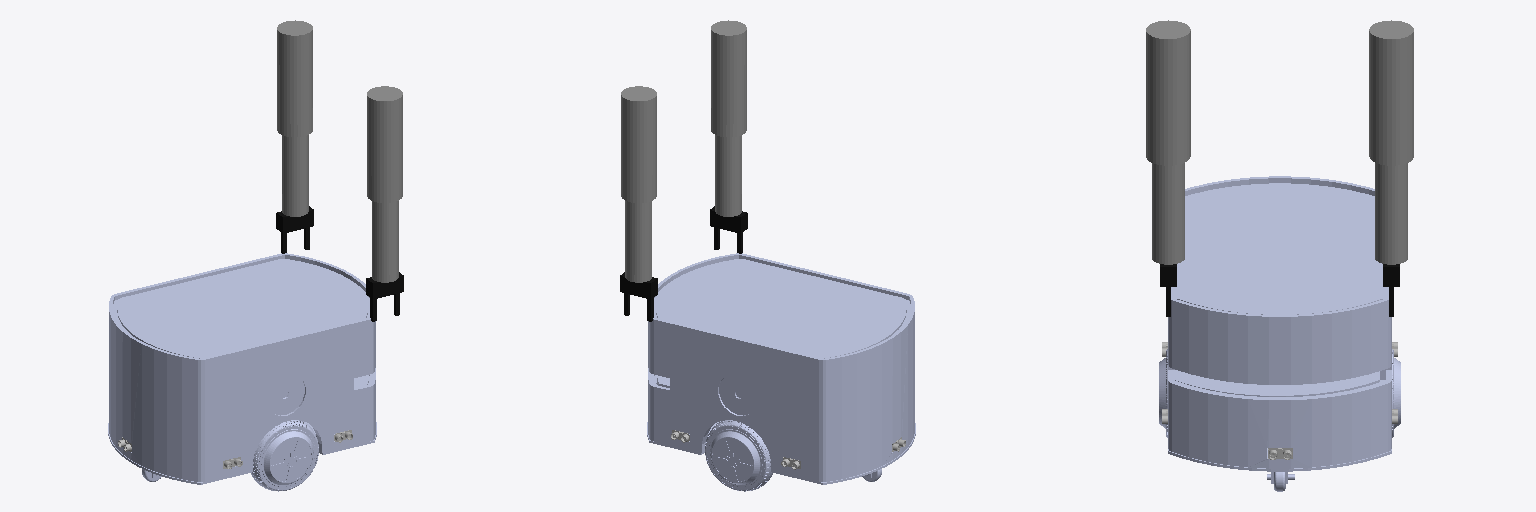
robot.urdf — rospital:
<?xml version="1.0" ?>
<!-- =================================================================================== -->
<!-- |    This document was autogenerated by xacro from rospital_moveit.urdf.xacro     | -->
<!-- |    EDITING THIS FILE BY HAND IS NOT RECOMMENDED                                 | -->
<!-- =================================================================================== -->
<robot name="rospital">
  <link name="base_footprint"/>
  <link name="base_link">
    <inertial>
      <origin rpy="0 0 0" xyz="0.00298593644358607 -0.000268295172875241 0.154640959753498"/>
      <mass value="12.0012331336924"/>
      <inertia ixx="0.35866059453322" ixy="4.67770377513155E-08" ixz="0.000423861580413772" iyy="0.233823654906046" iyz="4.66362844507336E-09" izz="0.375131573810826"/>
    </inertial>
    <visual>
      <origin rpy="0 0 0" xyz="0 0 0"/>
      <geometry>
        <mesh filename="package://rospital_description/meshes/base_link.STL"/>
      </geometry>
      <material name="">
        <color rgba="0.792156862745098 0.819607843137255 0.933333333333333 1"/>
      </material>
    </visual>
    <collision>
      <origin rpy="0 0 0" xyz="0 0 0"/>
      <geometry>
        <mesh filename="package://rospital_description/meshes/base_link.STL"/>
      </geometry>
    </collision>
  </link>
  <joint name="base_joint" type="fixed">
    <parent link="base_footprint"/>
    <child link="base_link"/>
    <origin rpy="0 0 0" xyz="0 0 0.0701"/>
  </joint>
  <link name="wheel_left_link">
    <inertial>
      <origin rpy="0 0 0" xyz="-8.64344718974191E-06 0.0228237946886783 7.57765177879927E-08"/>
      <mass value="0.778339693950675"/>
      <inertia ixx="0.00165430356623842" ixy="6.08982301451092E-09" ixz="3.56600628105672E-11" iyy="0.0030911762450513" iyz="-2.8372582055542E-11" izz="0.00165423410528579"/>
    </inertial>
    <visual>
      <origin rpy="0 0 0" xyz="0 0 0"/>
      <geometry>
        <mesh filename="package://rospital_description/meshes/wheel_left_link.STL"/>
      </geometry>
      <material name="">
        <color rgba="0.792156862745098 0.819607843137255 0.933333333333333 1"/>
      </material>
    </visual>
    <collision>
      <origin rpy="0 0 0" xyz="0 0 0"/>
      <geometry>
        <mesh filename="package://rospital_description/meshes/wheel_left_link.STL"/>
      </geometry>
    </collision>
  </link>
  <joint name="wheel_left_joint" type="continuous">
    <origin rpy="0 0 0" xyz="0 0.161 0.0154413114931434"/>
    <parent link="base_link"/>
    <child link="wheel_left_link"/>
    <axis xyz="0 1 0"/>
  </joint>
  <link name="wheel_right_link">
    <inertial>
      <origin rpy="0 0 0" xyz="8.64344718911542E-06 -0.0228237946886785 7.57765181002429E-08"/>
      <mass value="0.778339693950669"/>
      <inertia ixx="0.00165430356623842" ixy="6.08982301952646E-09" ixz="-3.56600611496615E-11" iyy="0.00309117624505131" iyz="2.83725665326271E-11" izz="0.0016542341052858"/>
    </inertial>
    <visual>
      <origin rpy="0 0 0" xyz="0 0 0"/>
      <geometry>
        <mesh filename="package://rospital_description/meshes/wheel_right_link.STL"/>
      </geometry>
      <material name="">
        <color rgba="0.792156862745098 0.819607843137255 0.933333333333333 1"/>
      </material>
    </visual>
    <collision>
      <origin rpy="0 0 0" xyz="0 0 0"/>
      <geometry>
        <mesh filename="package://rospital_description/meshes/wheel_right_link.STL"/>
      </geometry>
    </collision>
  </link>
  <joint name="wheel_right_joint" type="continuous">
    <origin rpy="0 0 0" xyz="0 -0.161 0.0154413114931451"/>
    <parent link="base_link"/>
    <child link="wheel_right_link"/>
    <axis xyz="0 1 0"/>
  </joint>
  <link name="caster_front_link">
    <inertial>
      <origin rpy="0 0 0" xyz="0.000805650652548229 5.72729797615468E-17 -4.48165838715792E-06"/>
      <mass value="0.0386238363179237"/>
      <inertia ixx="7.66294109641648E-06" ixy="-1.82721726780336E-20" ixz="2.42889623642253E-11" iyy="1.29044379500025E-05" iyz="-4.77133079419545E-24" izz="7.66293122817673E-06"/>
    </inertial>
    <visual>
      <origin rpy="0 0 0" xyz="0 0 0"/>
      <geometry>
        <mesh filename="package://rospital_description/meshes/caster_front_link.STL"/>
      </geometry>
      <material name="">
        <color rgba="0.792156862745098 0.819607843137255 0.933333333333333 1"/>
      </material>
    </visual>
    <collision>
      <origin rpy="0 0 0" xyz="0 0 0"/>
      <geometry>
        <mesh filename="package://rospital_description/meshes/caster_front_link.STL"/>
      </geometry>
    </collision>
  </link>
  <joint name="caster_front_joint" type="fixed">
    <origin rpy="0 0 0" xyz="0.229250238887004 -0.000124017376899337 -0.0431115511971616"/>
    <parent link="base_link"/>
    <child link="caster_front_link"/>
    <axis xyz="0 0 0"/>
  </joint>
  <link name="caster_rear_link">
    <inertial>
      <origin rpy="0 0 0" xyz="-0.000805650652548229 -6.01461155186334E-17 -4.48165838716486E-06"/>
      <mass value="0.0386238363179237"/>
      <inertia ixx="7.66294109641648E-06" ixy="-3.86943114962554E-20" ixz="-2.42889623642257E-11" iyy="1.29044379500025E-05" iyz="-7.32910421549178E-20" izz="7.66293122817673E-06"/>
    </inertial>
    <visual>
      <origin rpy="0 0 0" xyz="0 0 0"/>
      <geometry>
        <mesh filename="package://rospital_description/meshes/caster_rear_link.STL"/>
      </geometry>
      <material name="">
        <color rgba="0.792156862745098 0.819607843137255 0.933333333333333 1"/>
      </material>
    </visual>
    <collision>
      <origin rpy="0 0 0" xyz="0 0 0"/>
      <geometry>
        <mesh filename="package://rospital_description/meshes/caster_rear_link.STL"/>
      </geometry>
    </collision>
  </link>
  <joint name="caster_rear_joint" type="fixed">
    <origin rpy="0 0 0" xyz="-0.229157886818826 -0.000123712642857387 -0.0431115511971648"/>
    <parent link="base_link"/>
    <child link="caster_rear_link"/>
    <axis xyz="0 0 0"/>
  </joint>
  <material name="arm_grey">
    <color rgba="0.6 0.6 0.6 1"/>
  </material>
  <material name="gripper_black">
    <color rgba="0.1 0.1 0.1 1"/>
  </material>
  <joint name="left_shoulder_joint" type="revolute">
    <origin rpy="0 3.14 0" xyz="0.25 0.2 0.85"/>
    <parent link="base_link"/>
    <child link="left_upper_arm_link"/>
    <axis xyz="0 1 0"/>
    <limit effort="100" lower="-3.14" upper="0.0" velocity="1.0"/>
  </joint>
  <link name="left_upper_arm_link">
    <visual>
      <origin rpy="0 0 0" xyz="0 0 0.125"/>
      <geometry>
        <cylinder length="0.25" radius="0.04"/>
      </geometry>
      <material name="arm_grey"/>
    </visual>
    <collision>
      <origin rpy="0 0 0" xyz="0 0 0.125"/>
      <geometry>
        <cylinder length="0.25" radius="0.04"/>
      </geometry>
    </collision>
    <inertial>
      <mass value="1.0"/>
      <inertia ixx="0.01" ixy="0" ixz="0" iyy="0.01" iyz="0" izz="0.01"/>
    </inertial>
  </link>
  <joint name="left_elbow_joint" type="revolute">
    <origin rpy="0 0 0" xyz="0 0 0.25"/>
    <parent link="left_upper_arm_link"/>
    <child link="left_forearm_link"/>
    <axis xyz="1 0 0"/>
    <limit effort="100" lower="0.0" upper="1.57" velocity="1.0"/>
  </joint>
  <link name="left_forearm_link">
    <visual>
      <origin rpy="0 0 0" xyz="0 0 0.1"/>
      <geometry>
        <cylinder length="0.2" radius="0.03"/>
      </geometry>
      <material name="arm_grey"/>
    </visual>
    <collision>
      <origin rpy="0 0 0" xyz="0 0 0.1"/>
      <geometry>
        <cylinder length="0.2" radius="0.03"/>
      </geometry>
    </collision>
    <inertial>
      <mass value="0.8"/>
      <inertia ixx="0.01" ixy="0" ixz="0" iyy="0.01" iyz="0" izz="0.01"/>
    </inertial>
  </link>
  <joint name="left_wrist_joint" type="revolute">
    <origin rpy="0 0 0" xyz="0 0 0.2"/>
    <parent link="left_forearm_link"/>
    <child link="left_gripper_base_link"/>
    <axis xyz="0 0 1"/>
    <limit effort="50" lower="-1.57" upper="1.57" velocity="1.0"/>
  </joint>
  <link name="left_gripper_base_link">
    <visual>
      <origin rpy="0 0 0" xyz="0 0 0.02"/>
      <geometry>
        <box size="0.08 0.03 0.04"/>
      </geometry>
      <material name="gripper_black"/>
    </visual>
    <collision>
      <origin rpy="0 0 0" xyz="0 0 0.02"/>
      <geometry>
        <box size="0.08 0.03 0.04"/>
      </geometry>
    </collision>
    <inertial>
      <mass value="0.2"/>
      <inertia ixx="0.001" ixy="0" ixz="0" iyy="0.001" iyz="0" izz="0.001"/>
    </inertial>
  </link>
  <joint name="left_left_finger_joint" type="prismatic">
    <origin rpy="0 0 0" xyz="-0.03 0 0.04"/>
    <parent link="left_gripper_base_link"/>
    <child link="left_left_finger_link"/>
    <axis xyz="1 0 0"/>
    <limit effort="10" lower="0.0" upper="0.03" velocity="0.5"/>
  </joint>
  <link name="left_left_finger_link">
    <visual>
      <origin rpy="0 0 0" xyz="0 0 0.03"/>
      <geometry>
        <box size="0.01 0.01 0.06"/>
      </geometry>
      <material name="gripper_black"/>
    </visual>
    <collision>
      <origin rpy="0 0 0" xyz="0 0 0.03"/>
      <geometry>
        <box size="0.01 0.01 0.06"/>
      </geometry>
    </collision>
    <inertial>
      <mass value="0.05"/>
      <inertia ixx="0.0001" ixy="0" ixz="0" iyy="0.0001" iyz="0" izz="0.0001"/>
    </inertial>
  </link>
  <joint name="left_right_finger_joint" type="prismatic">
    <origin rpy="0 0 0" xyz="0.03 0 0.04"/>
    <parent link="left_gripper_base_link"/>
    <child link="left_right_finger_link"/>
    <axis xyz="-1 0 0"/>
    <limit effort="10" lower="0.0" upper="0.03" velocity="0.5"/>
  </joint>
  <link name="left_right_finger_link">
    <visual>
      <origin rpy="0 0 0" xyz="0 0 0.03"/>
      <geometry>
        <box size="0.01 0.01 0.06"/>
      </geometry>
      <material name="gripper_black"/>
    </visual>
    <collision>
      <origin rpy="0 0 0" xyz="0 0 0.03"/>
      <geometry>
        <box size="0.01 0.01 0.06"/>
      </geometry>
    </collision>
    <inertial>
      <mass value="0.05"/>
      <inertia ixx="0.0001" ixy="0" ixz="0" iyy="0.0001" iyz="0" izz="0.0001"/>
    </inertial>
  </link>
  <joint name="left_gripper_tcp_joint" type="fixed">
    <origin rpy="0 0 0" xyz="0 0 0.08"/>
    <parent link="left_gripper_base_link"/>
    <child link="left_gripper_tcp_link"/>
  </joint>
  <link name="left_gripper_tcp_link"/>
  <joint name="right_shoulder_joint" type="revolute">
    <origin rpy="0 3.14 0" xyz="0.25 -0.2 0.85"/>
    <parent link="base_link"/>
    <child link="right_upper_arm_link"/>
    <axis xyz="0 1 0"/>
    <limit effort="100" lower="-3.14" upper="0.0" velocity="1.0"/>
  </joint>
  <link name="right_upper_arm_link">
    <visual>
      <origin rpy="0 0 0" xyz="0 0 0.125"/>
      <geometry>
        <cylinder length="0.25" radius="0.04"/>
      </geometry>
      <material name="arm_grey"/>
    </visual>
    <collision>
      <origin rpy="0 0 0" xyz="0 0 0.125"/>
      <geometry>
        <cylinder length="0.25" radius="0.04"/>
      </geometry>
    </collision>
    <inertial>
      <mass value="1.0"/>
      <inertia ixx="0.01" ixy="0" ixz="0" iyy="0.01" iyz="0" izz="0.01"/>
    </inertial>
  </link>
  <joint name="right_elbow_joint" type="revolute">
    <origin rpy="0 0 0" xyz="0 0 0.25"/>
    <parent link="right_upper_arm_link"/>
    <child link="right_forearm_link"/>
    <axis xyz="1 0 0"/>
    <limit effort="100" lower="-1.57" upper="0" velocity="1.0"/>
  </joint>
  <link name="right_forearm_link">
    <visual>
      <origin rpy="0 0 0" xyz="0 0 0.1"/>
      <geometry>
        <cylinder length="0.2" radius="0.03"/>
      </geometry>
      <material name="arm_grey"/>
    </visual>
    <collision>
      <origin rpy="0 0 0" xyz="0 0 0.1"/>
      <geometry>
        <cylinder length="0.2" radius="0.03"/>
      </geometry>
    </collision>
    <inertial>
      <mass value="0.8"/>
      <inertia ixx="0.01" ixy="0" ixz="0" iyy="0.01" iyz="0" izz="0.01"/>
    </inertial>
  </link>
  <joint name="right_wrist_joint" type="revolute">
    <origin rpy="0 0 0" xyz="0 0 0.2"/>
    <parent link="right_forearm_link"/>
    <child link="right_gripper_base_link"/>
    <axis xyz="0 0 1"/>
    <limit effort="50" lower="-1.57" upper="1.57" velocity="1.0"/>
  </joint>
  <link name="right_gripper_base_link">
    <visual>
      <origin rpy="0 0 0" xyz="0 0 0.02"/>
      <geometry>
        <box size="0.08 0.03 0.04"/>
      </geometry>
      <material name="gripper_black"/>
    </visual>
    <collision>
      <origin rpy="0 0 0" xyz="0 0 0.02"/>
      <geometry>
        <box size="0.08 0.03 0.04"/>
      </geometry>
    </collision>
    <inertial>
      <mass value="0.2"/>
      <inertia ixx="0.001" ixy="0" ixz="0" iyy="0.001" iyz="0" izz="0.001"/>
    </inertial>
  </link>
  <joint name="right_left_finger_joint" type="prismatic">
    <origin rpy="0 0 0" xyz="-0.03 0 0.04"/>
    <parent link="right_gripper_base_link"/>
    <child link="right_left_finger_link"/>
    <axis xyz="1 0 0"/>
    <limit effort="10" lower="0.0" upper="0.03" velocity="0.5"/>
  </joint>
  <link name="right_left_finger_link">
    <visual>
      <origin rpy="0 0 0" xyz="0 0 0.03"/>
      <geometry>
        <box size="0.01 0.01 0.06"/>
      </geometry>
      <material name="gripper_black"/>
    </visual>
    <collision>
      <origin rpy="0 0 0" xyz="0 0 0.03"/>
      <geometry>
        <box size="0.01 0.01 0.06"/>
      </geometry>
    </collision>
    <inertial>
      <mass value="0.05"/>
      <inertia ixx="0.0001" ixy="0" ixz="0" iyy="0.0001" iyz="0" izz="0.0001"/>
    </inertial>
  </link>
  <joint name="right_right_finger_joint" type="prismatic">
    <origin rpy="0 0 0" xyz="0.03 0 0.04"/>
    <parent link="right_gripper_base_link"/>
    <child link="right_right_finger_link"/>
    <axis xyz="-1 0 0"/>
    <limit effort="10" lower="0.0" upper="0.03" velocity="0.5"/>
  </joint>
  <link name="right_right_finger_link">
    <visual>
      <origin rpy="0 0 0" xyz="0 0 0.03"/>
      <geometry>
        <box size="0.01 0.01 0.06"/>
      </geometry>
      <material name="gripper_black"/>
    </visual>
    <collision>
      <origin rpy="0 0 0" xyz="0 0 0.03"/>
      <geometry>
        <box size="0.01 0.01 0.06"/>
      </geometry>
    </collision>
    <inertial>
      <mass value="0.05"/>
      <inertia ixx="0.0001" ixy="0" ixz="0" iyy="0.0001" iyz="0" izz="0.0001"/>
    </inertial>
  </link>
  <joint name="right_gripper_tcp_joint" type="fixed">
    <origin rpy="0 0 0" xyz="0 0 0.08"/>
    <parent link="right_gripper_base_link"/>
    <child link="right_gripper_tcp_link"/>
  </joint>
  <link name="right_gripper_tcp_link"/>
  <link name="laser_link">
    <inertial>
      <origin rpy="0 0 0" xyz="-4.16811316961141E-07 -0.00020012090060817 0.0126456553172981"/>
      <mass value="0.00949435768129115"/>
      <inertia ixx="3.81407368895801E-06" ixy="-2.89093384914113E-11" ixz="2.07953967746501E-11" iyy="3.81525913149567E-06" iyz="-8.08800420939772E-10" izz="4.9344522853465E-06"/>
    </inertial>
    <visual>
      <origin rpy="0 0 0" xyz="0 0 0"/>
      <geometry>
        <mesh filename="package://rospital_description/meshes/laser_link.STL"/>
      </geometry>
      <material name="">
        <color rgba="0.0823529411764706 0.0823529411764706 0.0823529411764706 1"/>
      </material>
    </visual>
    <collision>
      <origin rpy="0 0 0" xyz="0 0 0"/>
      <geometry>
        <mesh filename="package://rospital_description/meshes/laser_link.STL"/>
      </geometry>
    </collision>
  </link>
  <joint name="laser_joint" type="fixed">
    <origin rpy="0 0 0" xyz="0.197743015846854 0.0027430158468545 0.159099867903085"/>
    <parent link="base_link"/>
    <child link="laser_link"/>
    <axis xyz="0 0 0"/>
  </joint>
  <link name="IMU_link">
    <inertial>
      <origin rpy="0 0 0" xyz="0.000281016175887924 -0.000320929221288936 0.000656651591240559"/>
      <mass value="0.000491630657107432"/>
      <inertia ixx="1.05219690062939E-08" ixy="-1.20559518329718E-10" ixz="-8.68518895699743E-11" iyy="2.60740156632658E-08" iyz="1.03040853232499E-10" izz="3.63603146259296E-08"/>
    </inertial>
    <visual>
      <origin rpy="0 0 0" xyz="0 0 0"/>
      <geometry>
        <mesh filename="package://rospital_description/meshes/IMU_link.STL"/>
      </geometry>
      <material name="">
        <color rgba="0.792156862745098 0.819607843137255 0.933333333333333 1"/>
      </material>
    </visual>
    <collision>
      <origin rpy="0 0 0" xyz="0 0 0"/>
      <geometry>
        <mesh filename="package://rospital_description/meshes/IMU_link.STL"/>
      </geometry>
    </collision>
  </link>
  <joint name="IMU_joint" type="fixed">
    <origin rpy="0 0 0" xyz="0 0 0.005"/>
    <parent link="base_link"/>
    <child link="IMU_link"/>
    <axis xyz="0 0 0"/>
  </joint>
  <link name="USB_link">
    <inertial>
      <origin rpy="0 0 0" xyz="0.00200485036829945 -6.30206112176707E-06 8.96260120698961E-05"/>
      <mass value="0.00351156143354723"/>
      <inertia ixx="2.7228430247311E-07" ixy="8.16918741171808E-14" ixz="7.23554313169072E-12" iyy="8.92094405089974E-08" iyz="-2.49782595956578E-11" izz="2.22970634830114E-07"/>
    </inertial>
    <visual>
      <origin rpy="0 0 0" xyz="0 0 0"/>
      <geometry>
        <mesh filename="package://rospital_description/meshes/USB_link.STL"/>
      </geometry>
      <material name="">
        <color rgba="0.752941176470588 0.752941176470588 0.752941176470588 1"/>
      </material>
    </visual>
    <collision>
      <origin rpy="0 0 0" xyz="0 0 0"/>
      <geometry>
        <mesh filename="package://rospital_description/meshes/USB_link.STL"/>
      </geometry>
    </collision>
  </link>
  <joint name="USB_joint" type="fixed">
    <origin rpy="0 0 -3.14" xyz="-0.297247724970268 -0.000399525317885812 0.034797072321444"/>
    <parent link="base_link"/>
    <child link="USB_link"/>
    <axis xyz="0 0 0"/>
  </joint>
  <link name="USL2_link">
    <inertial>
      <origin rpy="0 0 0" xyz="0.00200465694765273 -2.85523787015851E-05 8.96260115198499E-05"/>
      <mass value="0.00351156143354724"/>
      <inertia ixx="8.92094405089983E-08" ixy="-8.169187091625E-14" ixz="-2.49782595941744E-11" iyy="2.7228430247311E-07" iyz="-7.23554313158618E-12" izz="2.22970634830115E-07"/>
    </inertial>
    <visual>
      <origin rpy="0 0 0" xyz="0 0 0"/>
      <geometry>
        <mesh filename="package://rospital_description/meshes/USL2_link.STL"/>
      </geometry>
      <material name="">
        <color rgba="0.752941176470588 0.752941176470588 0.752941176470588 1"/>
      </material>
    </visual>
    <collision>
      <origin rpy="0 0 0" xyz="0 0 0"/>
      <geometry>
        <mesh filename="package://rospital_description/meshes/USL2_link.STL"/>
      </geometry>
    </collision>
  </link>
  <joint name="USL2_joint" type="fixed">
    <origin rpy="0 0 1.5707963267949" xyz="-0.142436694016969 0.2 0.0347970723214464"/>
    <parent link="base_link"/>
    <child link="USL2_link"/>
    <axis xyz="0 0 0"/>
  </joint>
  <link name="USL1_link">
    <inertial>
      <origin rpy="0 0 0" xyz="0.00200465694765256 -2.85523787028064E-05 8.96260115198569E-05"/>
      <mass value="0.00351156143354724"/>
      <inertia ixx="8.92094405089983E-08" ixy="-8.16918709175315E-14" ixz="-2.49782595960476E-11" iyy="2.7228430247311E-07" iyz="-7.23554313158602E-12" izz="2.22970634830115E-07"/>
    </inertial>
    <visual>
      <origin rpy="0 0 0" xyz="0 0 0"/>
      <geometry>
        <mesh filename="package://rospital_description/meshes/USL1_link.STL"/>
      </geometry>
      <material name="">
        <color rgba="0.752941176470588 0.752941176470588 0.752941176470588 1"/>
      </material>
    </visual>
    <collision>
      <origin rpy="0 0 0" xyz="0 0 0"/>
      <geometry>
        <mesh filename="package://rospital_description/meshes/USL1_link.STL"/>
      </geometry>
    </collision>
  </link>
  <joint name="USL1_joint" type="fixed">
    <origin rpy="0 0 1.5707963267949" xyz="0.141637643381198 0.2 0.0347970723214444"/>
    <parent link="base_link"/>
    <child link="USL1_link"/>
    <axis xyz="0 0 0"/>
  </joint>
  <link name="USR2_link">
    <inertial>
      <origin rpy="0 0 0" xyz="0.00200465694765181 -2.85523787021957E-05 8.9626011519732E-05"/>
      <mass value="0.00351156143354724"/>
      <inertia ixx="8.9209440508998E-08" ixy="-8.16918709225816E-14" ixz="2.4978259596054E-11" iyy="2.72284302473109E-07" iyz="7.23554313147844E-12" izz="2.22970634830113E-07"/>
    </inertial>
    <visual>
      <origin rpy="0 0 0" xyz="0 0 0"/>
      <geometry>
        <mesh filename="package://rospital_description/meshes/USR2_link.STL"/>
      </geometry>
      <material name="">
        <color rgba="0.752941176470588 0.752941176470588 0.752941176470588 1"/>
      </material>
    </visual>
    <collision>
      <origin rpy="0 0 0" xyz="0 0 0"/>
      <geometry>
        <mesh filename="package://rospital_description/meshes/USR2_link.STL"/>
      </geometry>
    </collision>
  </link>
  <joint name="USR2_joint" type="fixed">
    <origin rpy="0 0 -1.5707963267949" xyz="0.14163669401697 -0.2 0.0347970723214451"/>
    <parent link="base_link"/>
    <child link="USR2_link"/>
    <axis xyz="0 0 0"/>
  </joint>
  <link name="USR1_link">
    <inertial>
      <origin rpy="0 0 0" xyz="0.00200465694765189 -2.85523787023068E-05 8.96260115197736E-05"/>
      <mass value="0.00351156143354724"/>
      <inertia ixx="8.92094405089981E-08" ixy="-8.16918695489528E-14" ixz="2.49782595958463E-11" iyy="2.72284302473109E-07" iyz="7.23554313129476E-12" izz="2.22970634830114E-07"/>
    </inertial>
    <visual>
      <origin rpy="0 0 0" xyz="0 0 0"/>
      <geometry>
        <mesh filename="package://rospital_description/meshes/USR1_link.STL"/>
      </geometry>
      <material name="">
        <color rgba="0.752941176470588 0.752941176470588 0.752941176470588 1"/>
      </material>
    </visual>
    <collision>
      <origin rpy="0 0 0" xyz="0 0 0"/>
      <geometry>
        <mesh filename="package://rospital_description/meshes/USR1_link.STL"/>
      </geometry>
    </collision>
  </link>
  <joint name="USR1_joint" type="fixed">
    <origin rpy="0 0 -1.5707963267949" xyz="-0.142437643381199 -0.199999999999999 0.0351970723214457"/>
    <parent link="base_link"/>
    <child link="USR1_link"/>
    <axis xyz="0 0 0"/>
  </joint>
  <link name="USF_link">
    <inertial>
      <origin rpy="0 0 0" xyz="0.00200465694765267 -2.85523787022033E-05 8.96260115198708E-05"/>
      <mass value="0.00351156143354723"/>
      <inertia ixx="2.7228430247311E-07" ixy="8.16918728917237E-14" ixz="-7.23554313164944E-12" iyy="8.92094405089973E-08" iyz="2.49782595956534E-11" izz="2.22970634830114E-07"/>
    </inertial>
    <visual>
      <origin rpy="0 0 0" xyz="0 0 0"/>
      <geometry>
        <mesh filename="package://rospital_description/meshes/USF_link.STL"/>
      </geometry>
      <material name="">
        <color rgba="0.752941176470588 0.752941176470588 0.752941176470588 1"/>
      </material>
    </visual>
    <collision>
      <origin rpy="0 0 0" xyz="0 0 0"/>
      <geometry>
        <mesh filename="package://rospital_description/meshes/USF_link.STL"/>
      </geometry>
    </collision>
  </link>
  <joint name="USF_joint" type="fixed">
    <origin rpy="0 0 0" xyz="0.297247724970268 0.000399525317885919 0.0347970723214441"/>
    <parent link="base_link"/>
    <child link="USF_link"/>
    <axis xyz="0 0 0"/>
  </joint>
</robot>

--- Render facts (derived) ---
The picture shows the robot from 3 angles, left to right: view 1: azimuth 30°, elevation 25°; view 2: azimuth 150°, elevation 25°; view 3: azimuth 270°, elevation 25°; orthographic projection.
Model rospital with 26 links and 25 joints (6 revolute, 2 continuous, 4 prismatic, 13 fixed), rooted at base_footprint, posed all joints at 0.
Links seen in each view (by area): view 1: base_link, right_upper_arm_link, left_upper_arm_link, wheel_right_link, left_forearm_link, right_forearm_link, left_gripper_base_link, right_gripper_base_link; view 2: base_link, left_upper_arm_link, right_upper_arm_link, wheel_left_link, right_forearm_link, left_forearm_link, right_gripper_base_link, left_gripper_base_link; view 3: base_link, left_upper_arm_link, right_upper_arm_link, left_forearm_link, right_forearm_link, wheel_left_link, wheel_right_link.
Boxes of the visible links, x1,y1,x2,y2 form: base_link: (108, 253, 376, 484); right_upper_arm_link: (367, 86, 402, 202); left_upper_arm_link: (277, 20, 312, 136); wheel_right_link: (251, 420, 318, 491); left_forearm_link: (282, 135, 308, 216); right_forearm_link: (372, 201, 398, 282); left_gripper_base_link: (276, 206, 313, 233); right_gripper_base_link: (366, 272, 403, 299); base_link: (647, 253, 915, 484); left_upper_arm_link: (621, 86, 656, 202); right_upper_arm_link: (711, 20, 746, 136); wheel_left_link: (705, 420, 772, 491); right_forearm_link: (715, 135, 741, 216); left_forearm_link: (625, 201, 651, 282); right_gripper_base_link: (710, 206, 747, 233); left_gripper_base_link: (620, 272, 657, 299); base_link: (1168, 176, 1391, 483); left_upper_arm_link: (1369, 20, 1413, 165); right_upper_arm_link: (1146, 20, 1190, 165); left_forearm_link: (1375, 163, 1407, 264); right_forearm_link: (1152, 163, 1184, 264); wheel_left_link: (1392, 349, 1400, 437); wheel_right_link: (1159, 349, 1167, 437).
Size in the robot's own frame: 0.6187 by 0.48 by 0.9206 metres.
12 mesh visuals loaded from 13 distinct referenced files (12 binary STL); not drawn: 1 (reference not matched to a file when rendering).
